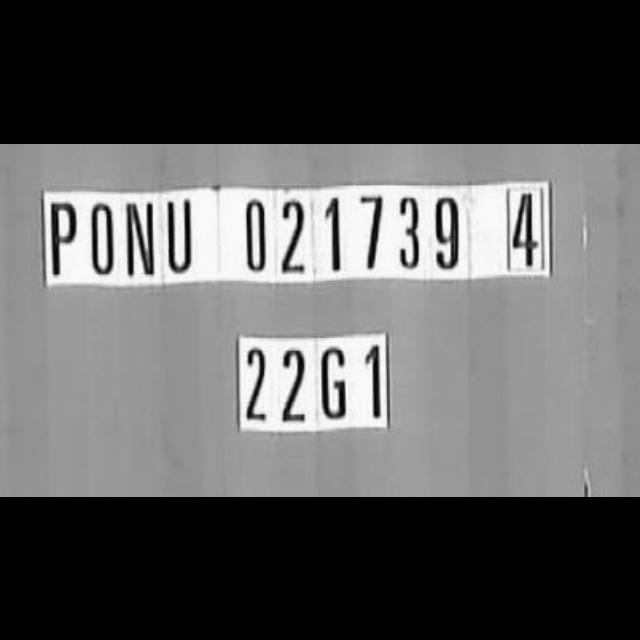0: (240, 194, 268, 272)
1: (320, 189, 350, 277), (361, 338, 385, 424)
2: (278, 193, 312, 277), (278, 342, 310, 422), (244, 345, 274, 425)
3: (394, 190, 424, 276)
4: (512, 189, 540, 269)
7: (359, 187, 387, 277)
9: (432, 188, 468, 276)
g: (318, 342, 352, 422)
n: (123, 197, 157, 279)
o: (86, 197, 120, 277)
p: (49, 194, 77, 278)
u: (164, 195, 196, 277)
